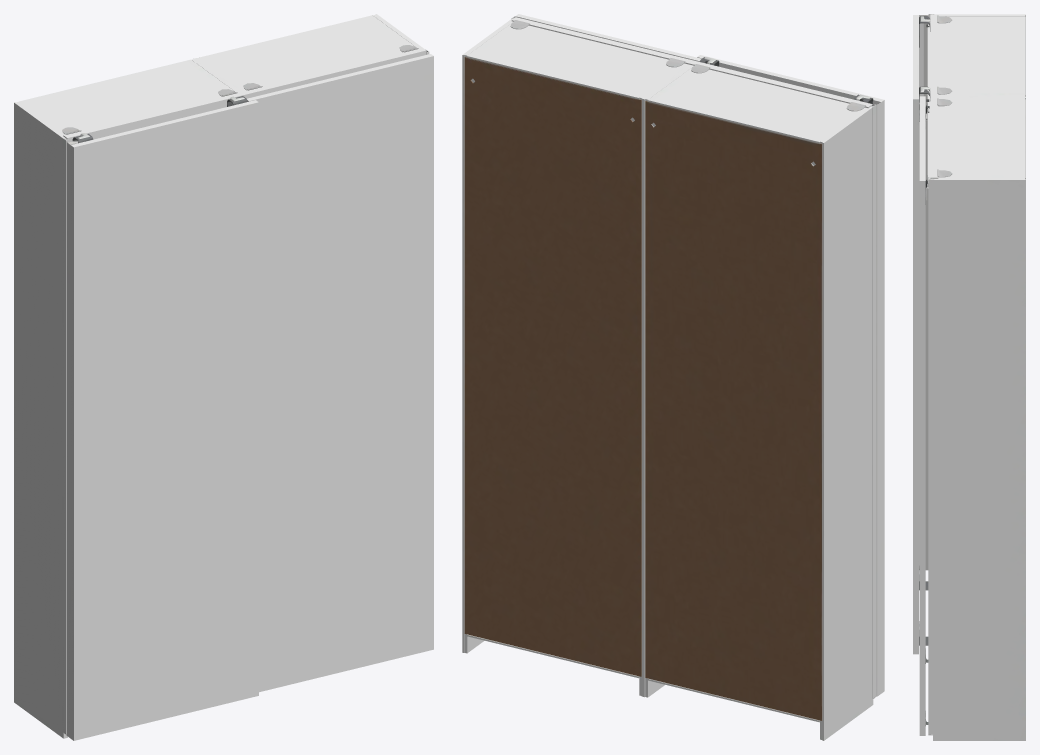
Rendered from pax_hasvik_kombinacja_szafy_99433231.glb.
The picture shows the model from 3 angles, left to right: view 1: azimuth 30°, elevation 25°; view 2: azimuth 150°, elevation 25°; view 3: azimuth 270°, elevation 25°; orthographic projection. The views are drawn at different scales.
Visible parts, largest first — view 1: pax_hasvik_kombinacja_szafy_99433231; view 2: pax_hasvik_kombinacja_szafy_99433231; view 3: pax_hasvik_kombinacja_szafy_99433231.
Part boxes in pixels (x1,y1,x2,y2): pax_hasvik_kombinacja_szafy_99433231: [14, 14, 433, 740]; pax_hasvik_kombinacja_szafy_99433231: [462, 14, 884, 740]; pax_hasvik_kombinacja_szafy_99433231: [913, 14, 1025, 740].
Bounding box in the file's own units: 1.5 × 2.38 × 0.4308.
1 material, 1 textured.
